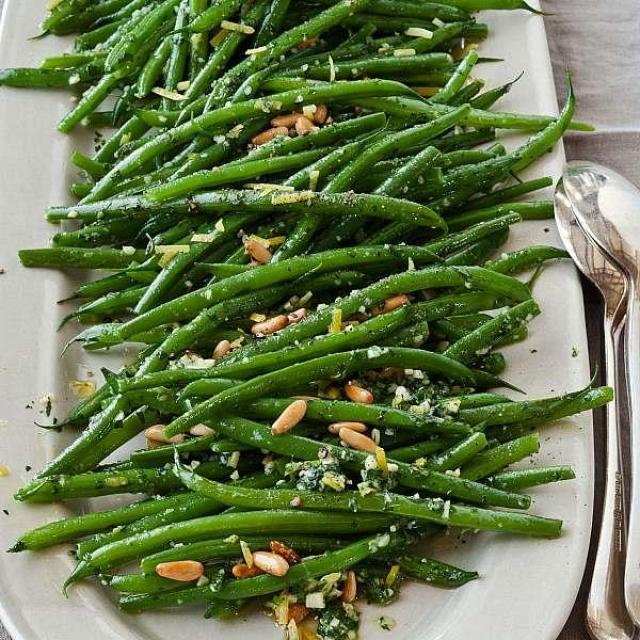Beans: (10, 0, 617, 626)
